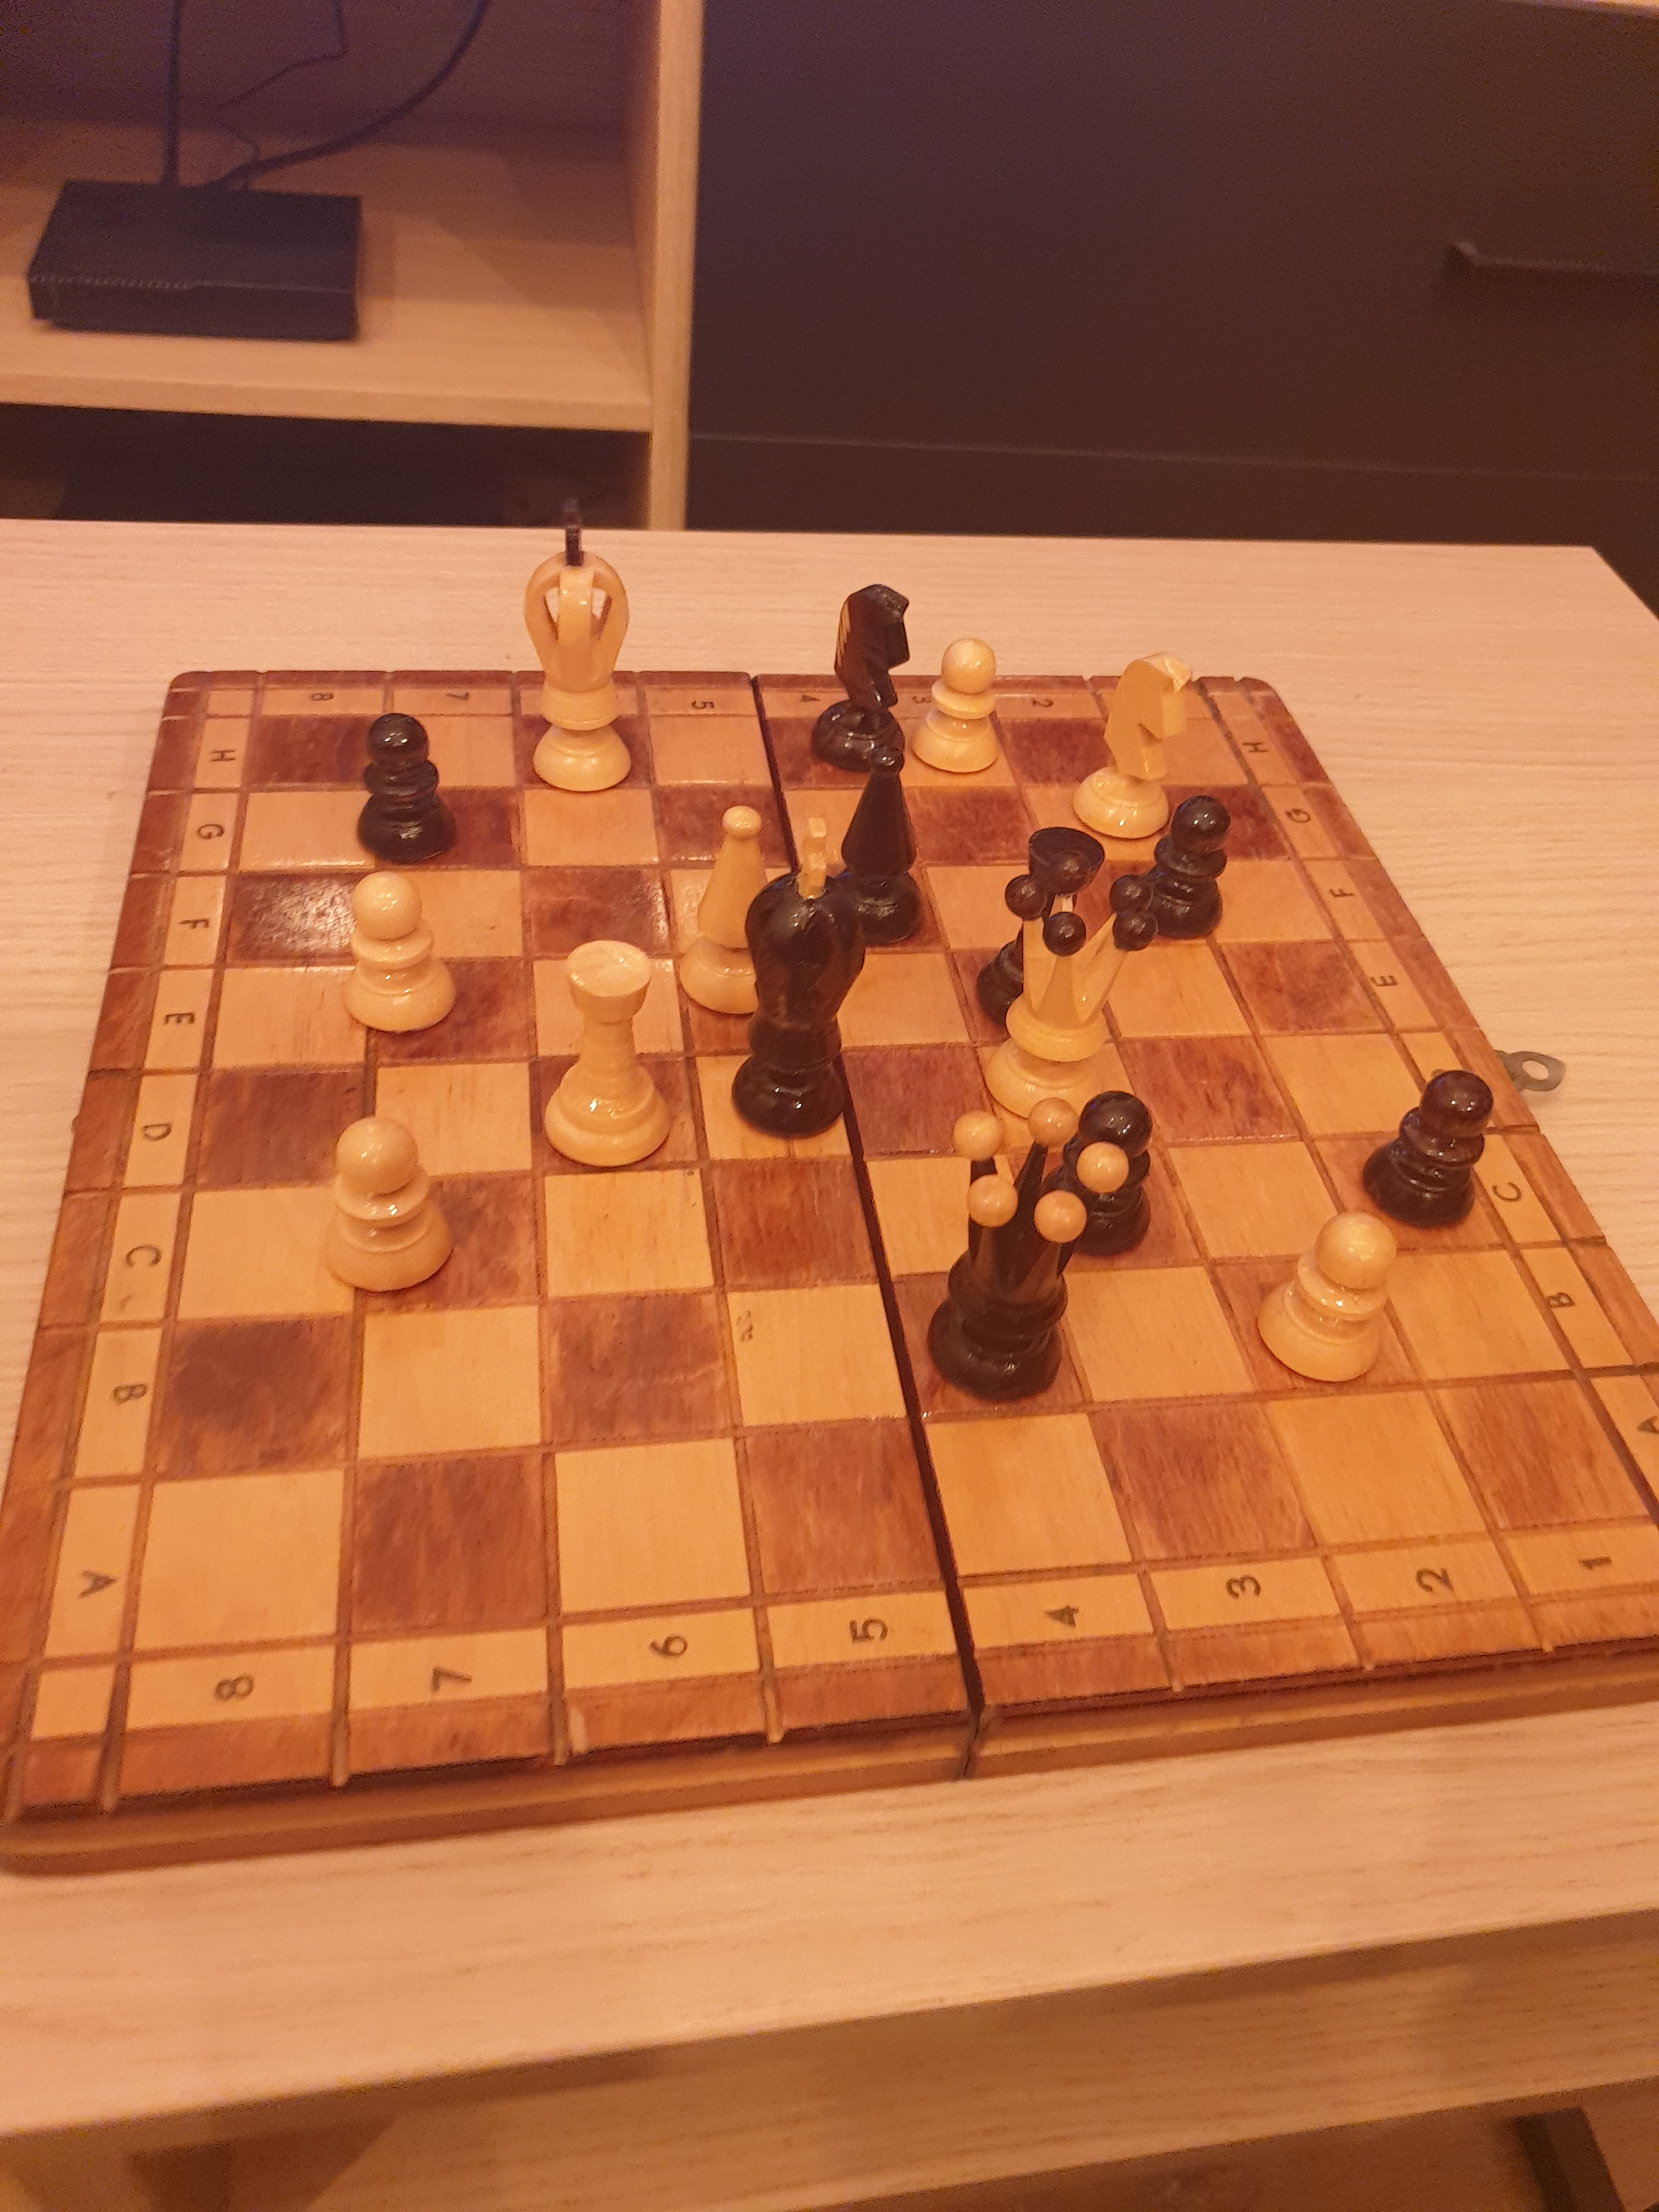bbishop: (817, 738, 939, 958)
bking: (735, 806, 868, 1153)
bknight: (803, 573, 917, 792)
bpawn: (1354, 1059, 1502, 1254), (1039, 1076, 1180, 1280), (1114, 786, 1239, 956), (350, 697, 464, 880)
bqueen: (913, 1087, 1147, 1425)
brook: (967, 812, 1117, 1038)
wbishop: (673, 792, 798, 1031)
wking: (504, 484, 660, 805)
wknight: (1068, 644, 1199, 848)
wpawn: (308, 1096, 469, 1329), (1243, 1200, 1412, 1404), (331, 862, 469, 1050), (896, 620, 1019, 799)
wqueen: (983, 843, 1164, 1130)
wrook: (530, 935, 687, 1177)
